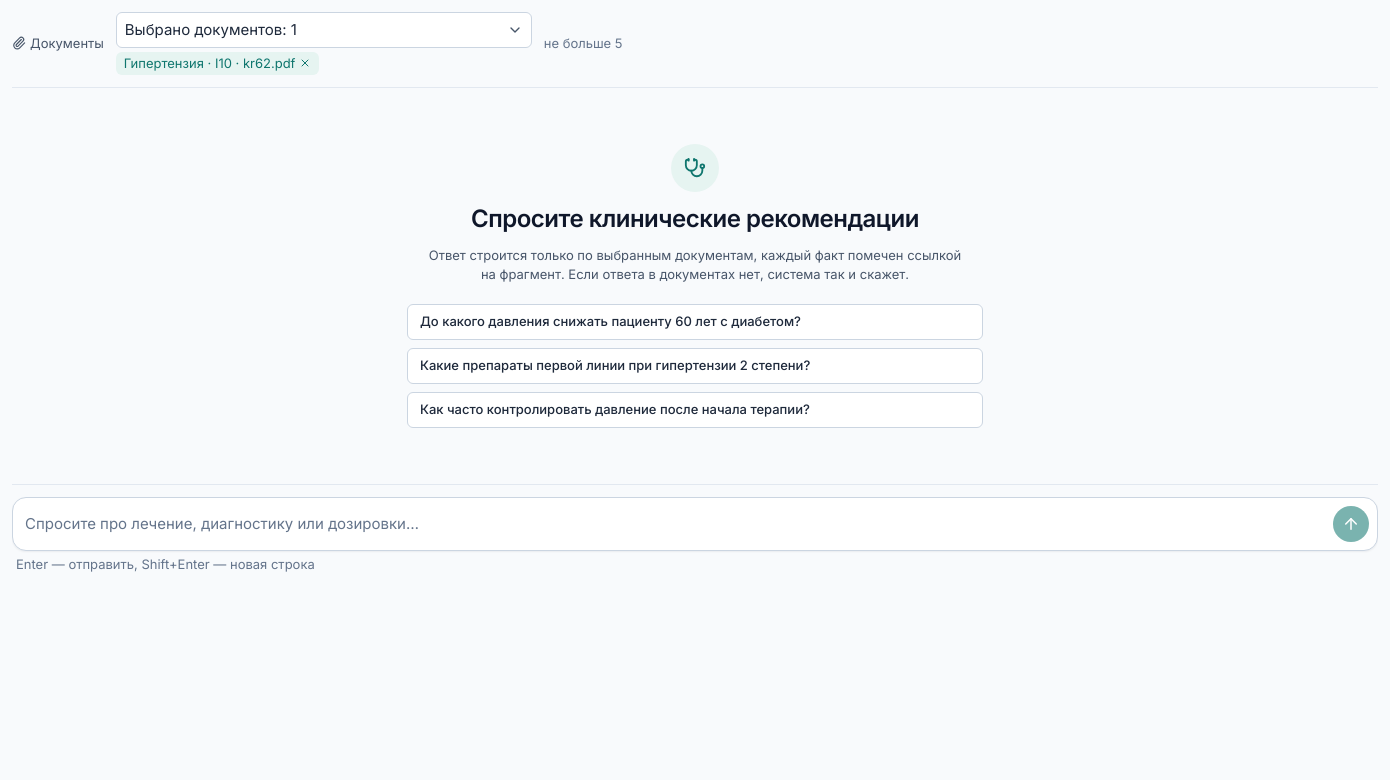
Scenario: ChatPage › показывает отказ как отсутствие ответа, а не как сбой
Type "до какого давления снижать пациенту 60 лет?" into the text box named "Вопрос по клинрекам" at point(673, 524), box [21,506,1325,542]
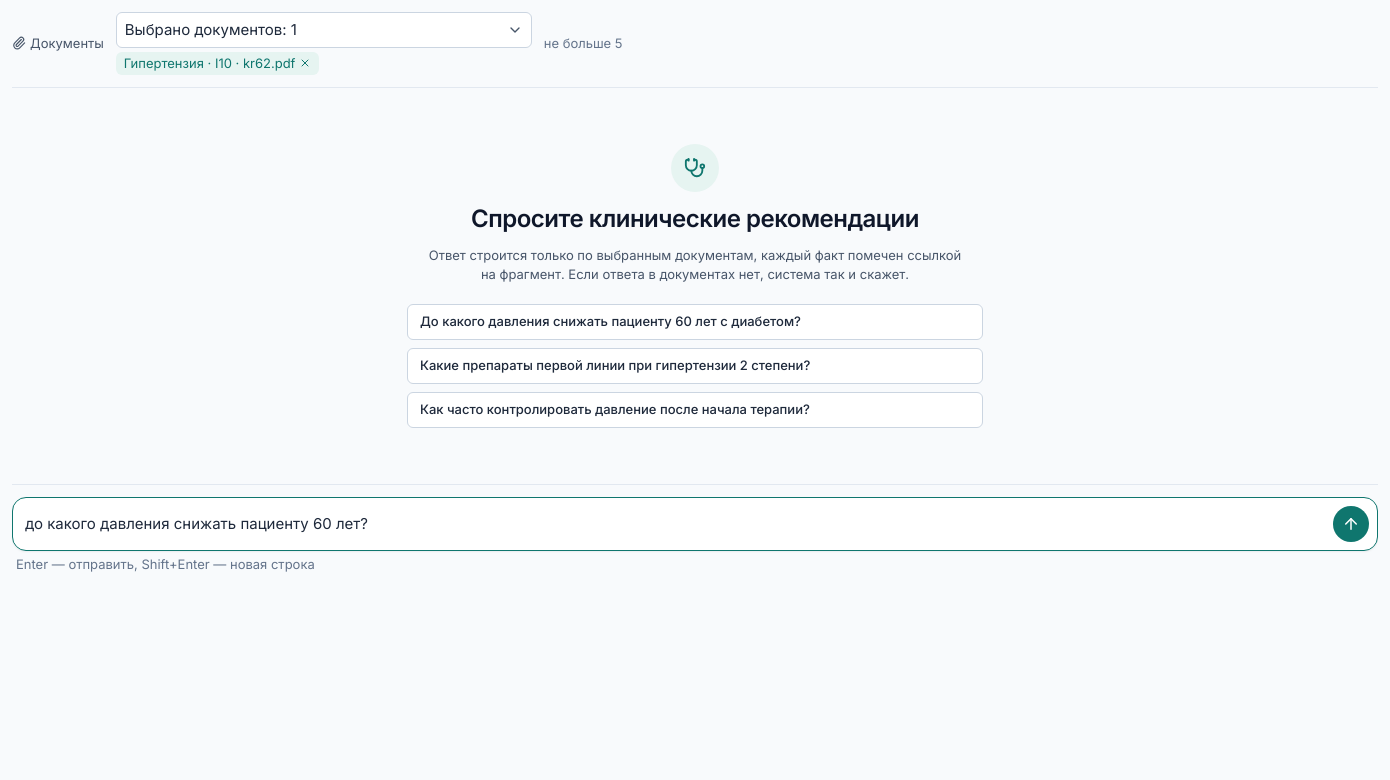
Click the button named "Отправить" at point(1351, 524), box [1333,506,1369,542]
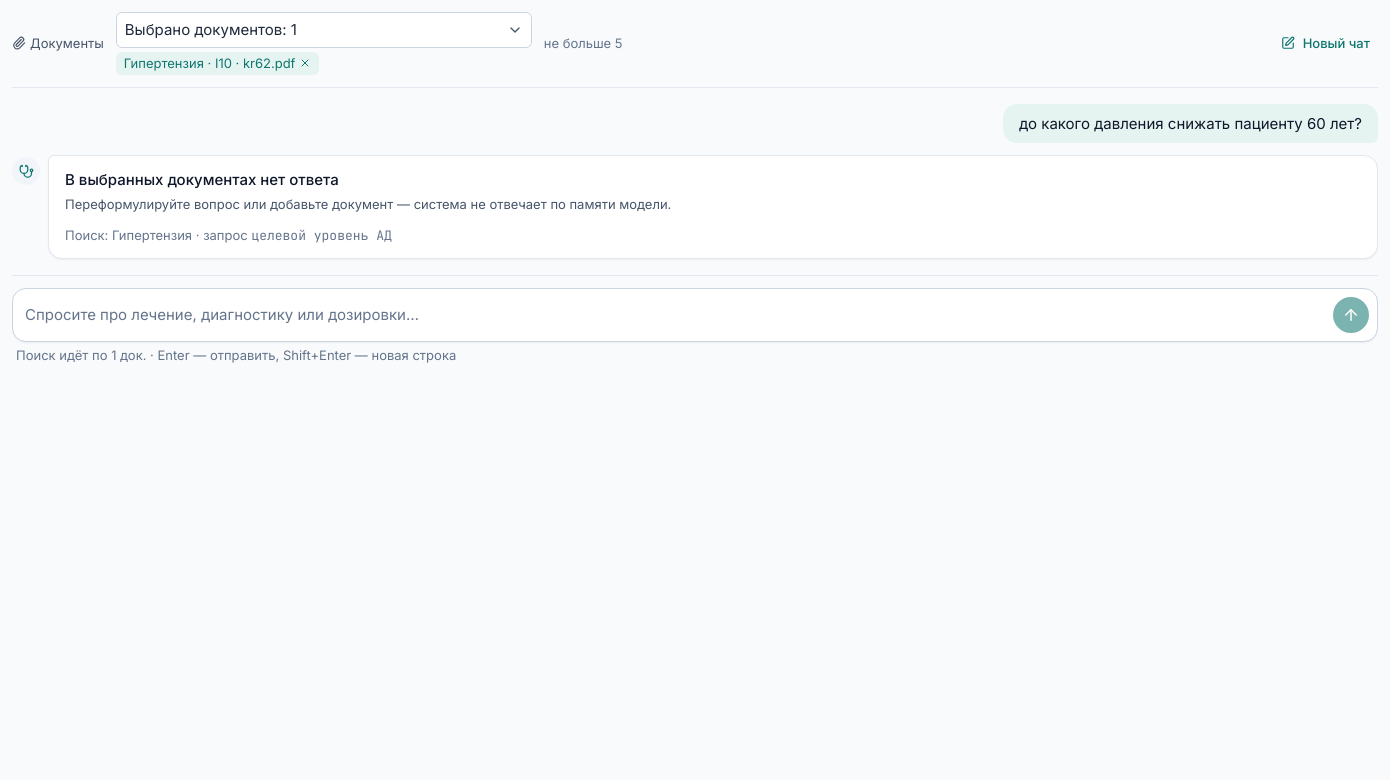
Expected: the text "В выбранных документах нет ответа" is shown, [65,170,339,189]
